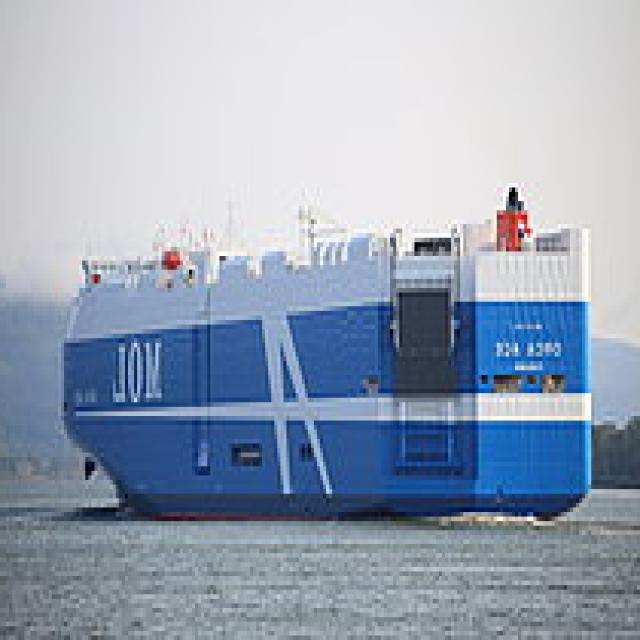Carrier: (61, 183, 597, 521)
